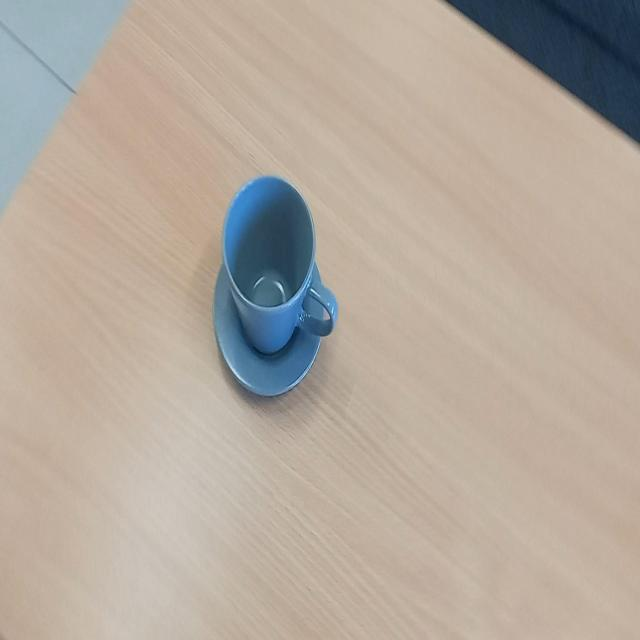cup: (221, 174, 340, 362)
